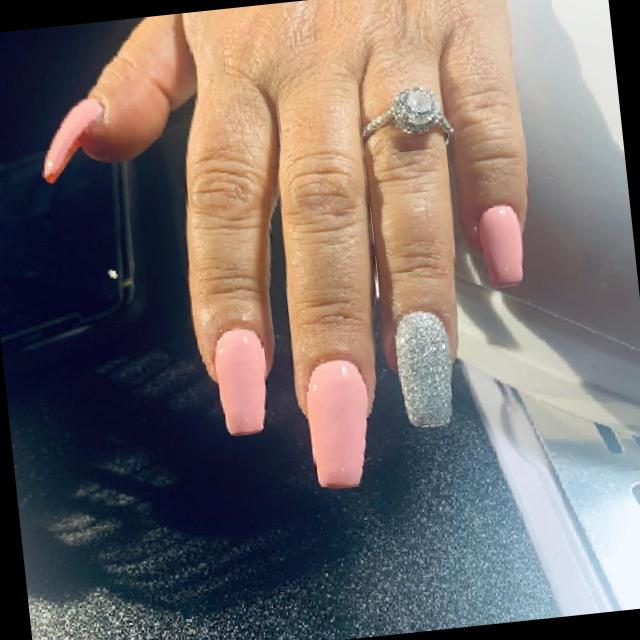Nail: (305, 359, 368, 488), (395, 310, 452, 427), (214, 327, 266, 436), (42, 98, 103, 183), (478, 204, 523, 287)
